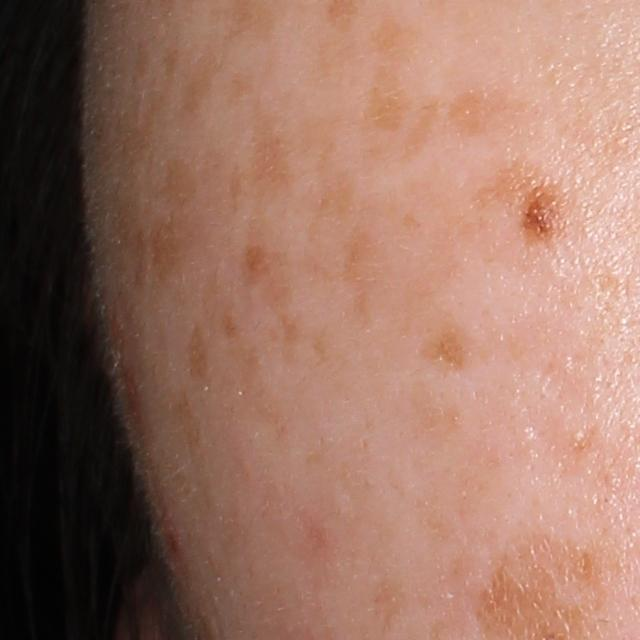melasma: (223, 77, 365, 219), (302, 209, 394, 332), (232, 209, 303, 360), (358, 6, 425, 137), (115, 210, 220, 287), (444, 79, 523, 134), (157, 151, 231, 204), (394, 87, 442, 167), (471, 157, 533, 216), (413, 329, 481, 379), (206, 275, 251, 346), (182, 323, 216, 386)
nevus: (511, 186, 564, 245)
